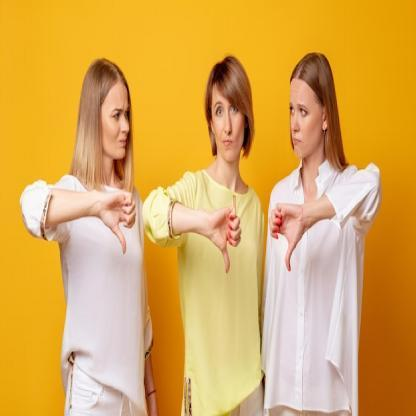thumb_down: (268, 198, 304, 274), (101, 186, 138, 257), (210, 202, 244, 275)
